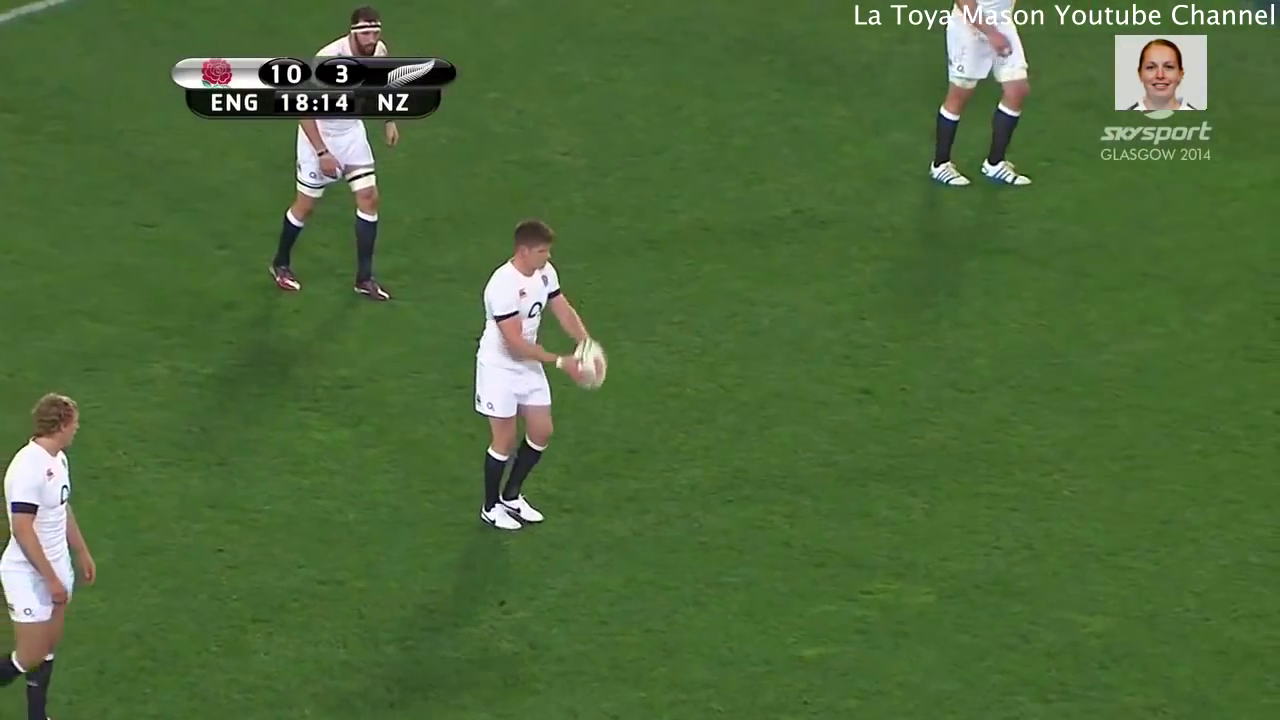ball: (565, 330, 612, 399)
player: (464, 209, 618, 540), (1, 391, 105, 720), (275, 120, 421, 313), (913, 1, 1039, 196)
